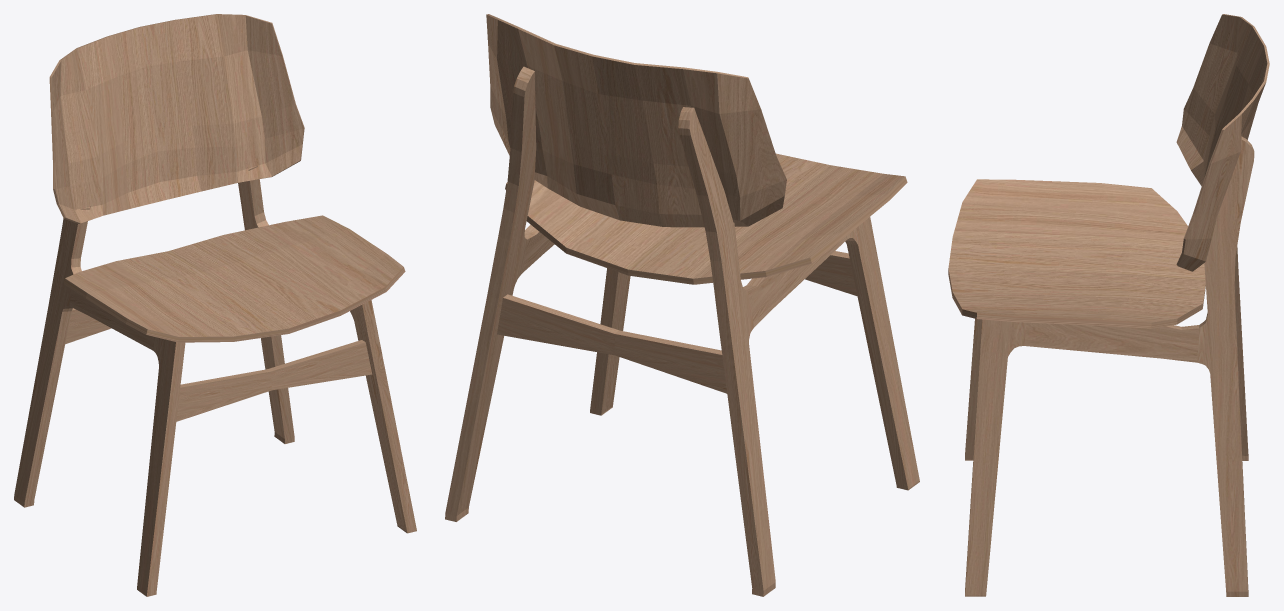
Rendered from chair.glb.
3 views of the same model, side by side, from view 1: azimuth 30°, elevation 25°; view 2: azimuth 150°, elevation 25°; view 3: azimuth 270°, elevation 25° (orthographic). The views are drawn at different scales.
Parts seen in each view (by area): view 1: Plane.001, Plane, Cube.001, Cube, Cube.002, Cube.003; view 2: Plane.001, Cube.001, Plane, Cube, Cube.003, Cube.002; view 3: Plane, Cube, Plane.001, Cube.001.
Boxes of the visible parts, x1,y1,x2,y2 form: Plane.001: (49, 14, 304, 223); Plane: (64, 215, 405, 342); Cube.001: (14, 206, 185, 596); Cube: (238, 166, 416, 533); Cube.002: (176, 340, 372, 421); Cube.003: (65, 308, 111, 343); Plane.001: (486, 14, 786, 227); Cube.001: (678, 107, 919, 596); Plane: (505, 153, 907, 284); Cube: (445, 66, 630, 521); Cube.003: (497, 294, 727, 393); Cube.002: (805, 251, 857, 295); Plane: (948, 179, 1205, 328); Cube: (965, 136, 1254, 596); Plane.001: (1176, 14, 1269, 271); Cube.001: (965, 160, 1248, 460).
Bounding box in the file's own units: 0.5202 × 0.7998 × 0.5021.
Materials: 1 (1 with a texture image).
